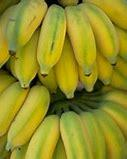banana: (0, 0, 127, 97), (3, 82, 127, 159)
